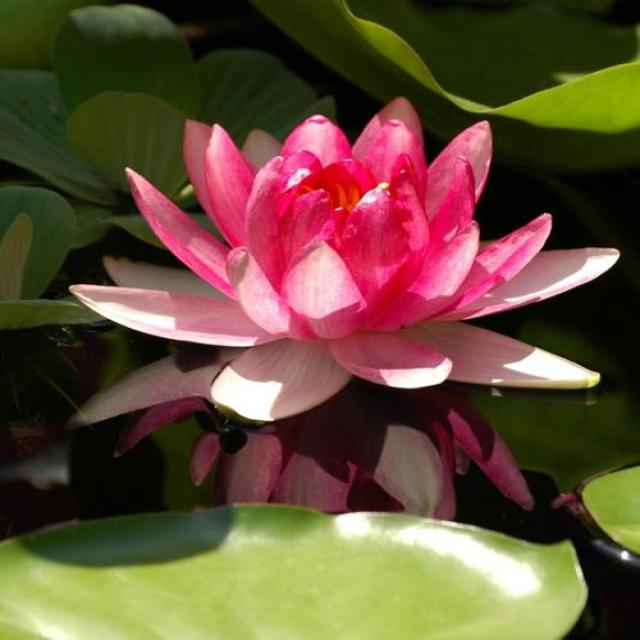water-lily: (61, 86, 640, 463)
